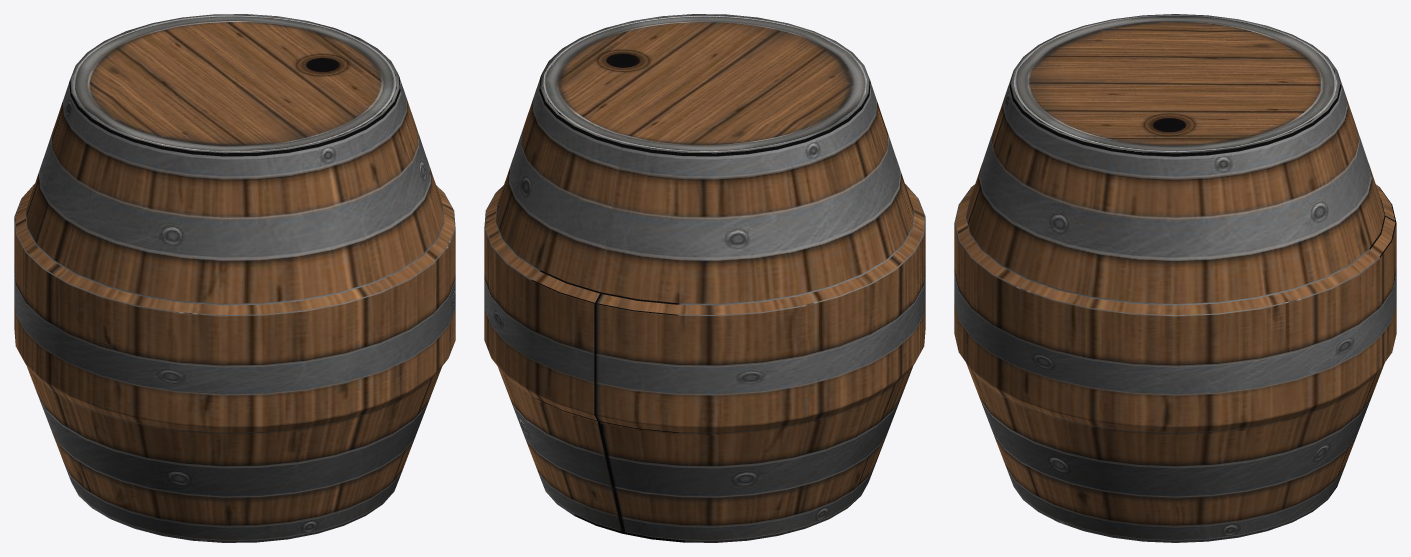
The model's file is Barrel.fbx.
3 views of the same model, side by side, from view 1: azimuth 30°, elevation 25°; view 2: azimuth 150°, elevation 25°; view 3: azimuth 270°, elevation 25° (orthographic).
Visible parts, largest first — view 1: Barrel; view 2: Barrel; view 3: Barrel.
Part boxes in pixels (left/top/right/bottom): Barrel: left=14, top=14, right=455, bottom=542; Barrel: left=484, top=14, right=925, bottom=542; Barrel: left=954, top=14, right=1396, bottom=542.
Size of the model in its own units: 229 by 223 by 229.
1 material, 1 textured.
